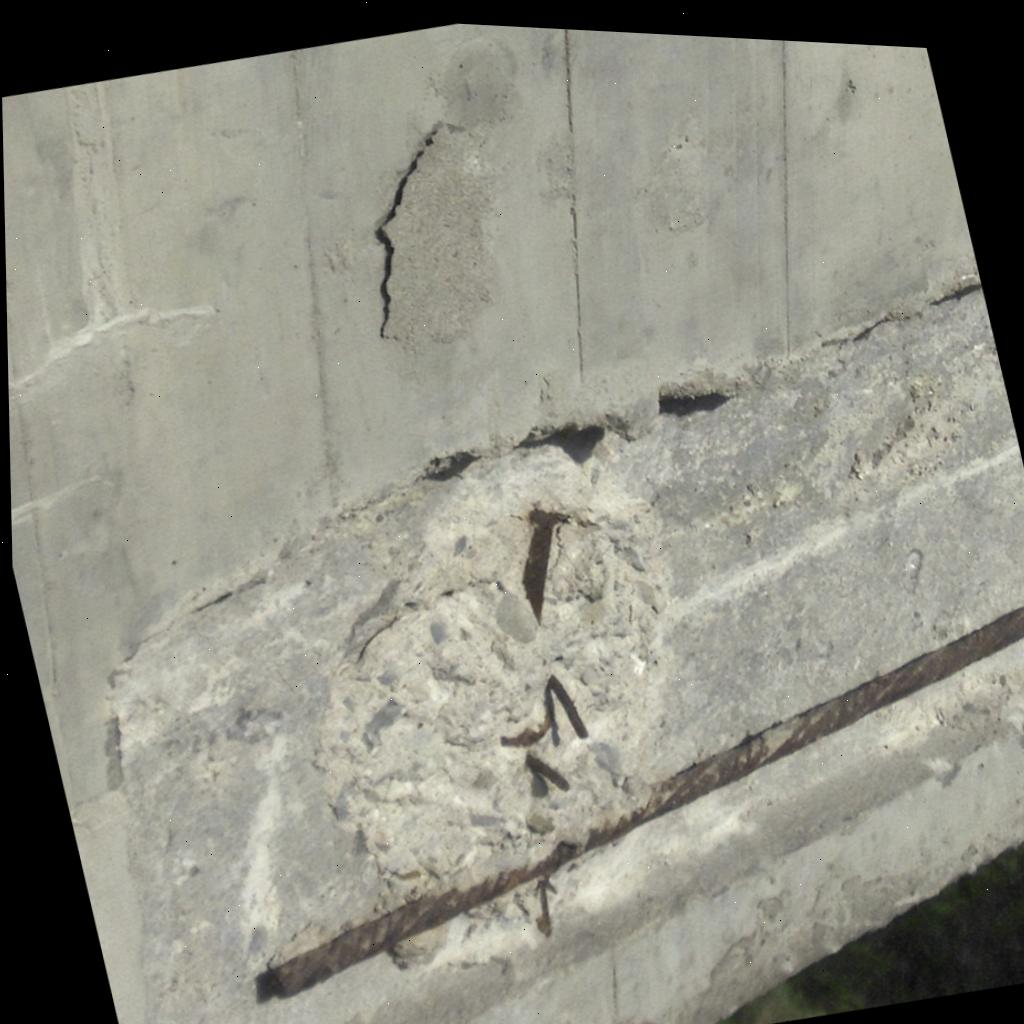exposed_rebar: (256, 606, 1024, 1001), (500, 675, 589, 747), (522, 508, 568, 621), (525, 753, 571, 790)
spalling: (113, 291, 1024, 1024)
